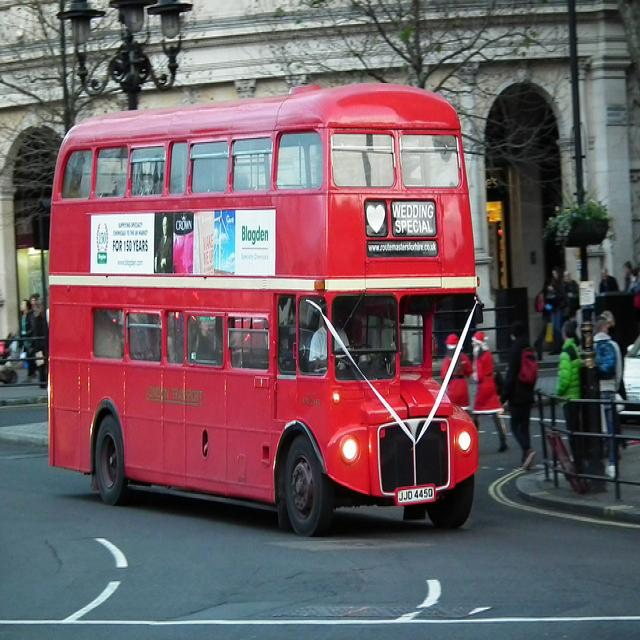Vehicle: (48, 84, 483, 537), (615, 335, 640, 401)
